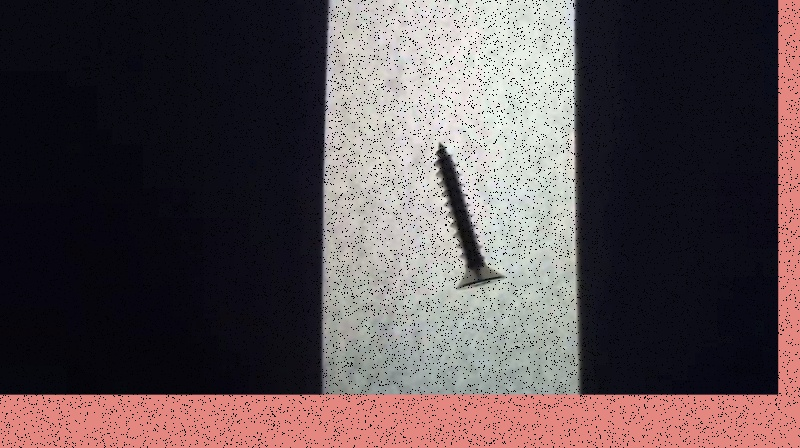S001: (432, 140, 510, 292)
